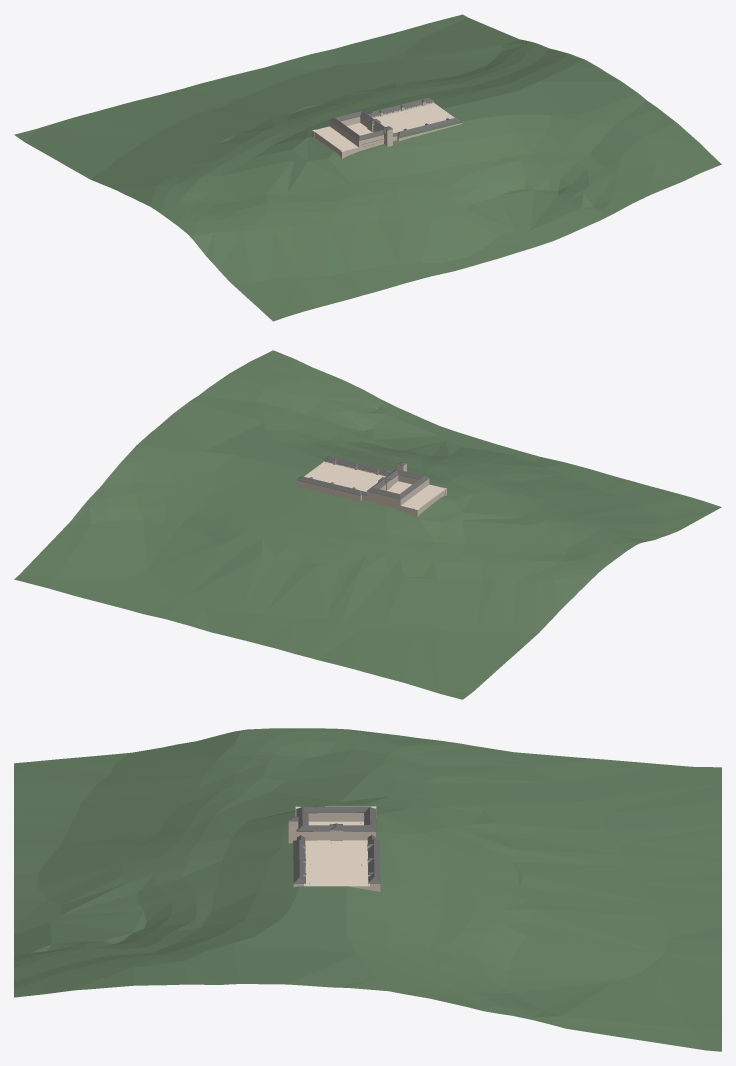
The picture shows the model from 3 angles, top to bottom: view 1: azimuth 30°, elevation 25°; view 2: azimuth 150°, elevation 25°; view 3: azimuth 270°, elevation 25°; orthographic projection. The views are drawn at different scales.
Visible parts, largest first — view 1: VisualSceneNode1.428, VisualSceneNode1.108, VisualSceneNode1.395; view 2: VisualSceneNode1.428, VisualSceneNode1.108; view 3: VisualSceneNode1.428, VisualSceneNode1.108.
Part boxes in pixels (x1=…): VisualSceneNode1.428: x1=14, y1=14, x2=721, y2=321; VisualSceneNode1.108: x1=373, y1=103, x2=454, y2=133; VisualSceneNode1.395: x1=312, y1=126, x2=358, y2=151; VisualSceneNode1.428: x1=14, y1=350, x2=721, y2=699; VisualSceneNode1.108: x1=304, y1=461, x2=385, y2=491; VisualSceneNode1.428: x1=14, y1=728, x2=721, y2=1051; VisualSceneNode1.108: x1=304, y1=840, x2=369, y2=886.
Size of the model in its own units: 110 by 16.21 by 110.
